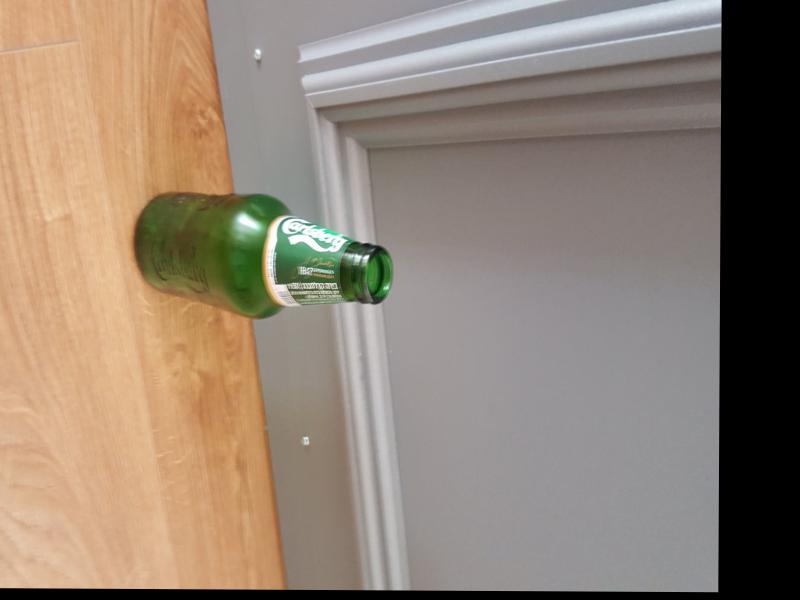Beer: (132, 190, 392, 320)
